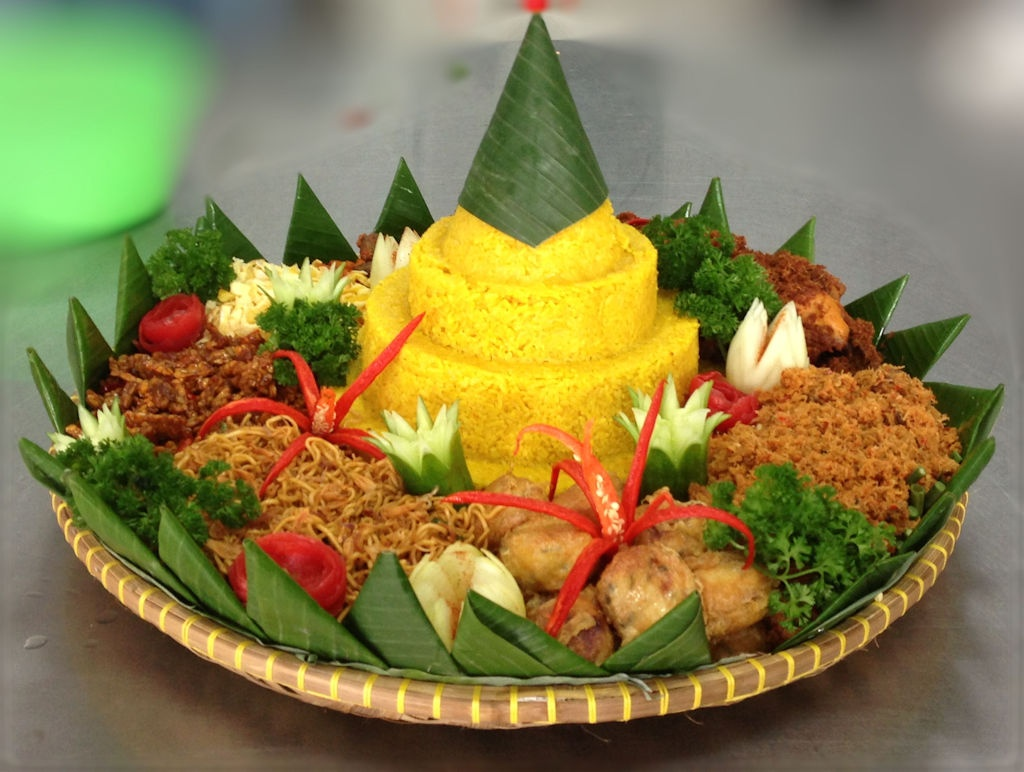tumpeng: (389, 10, 674, 285)
